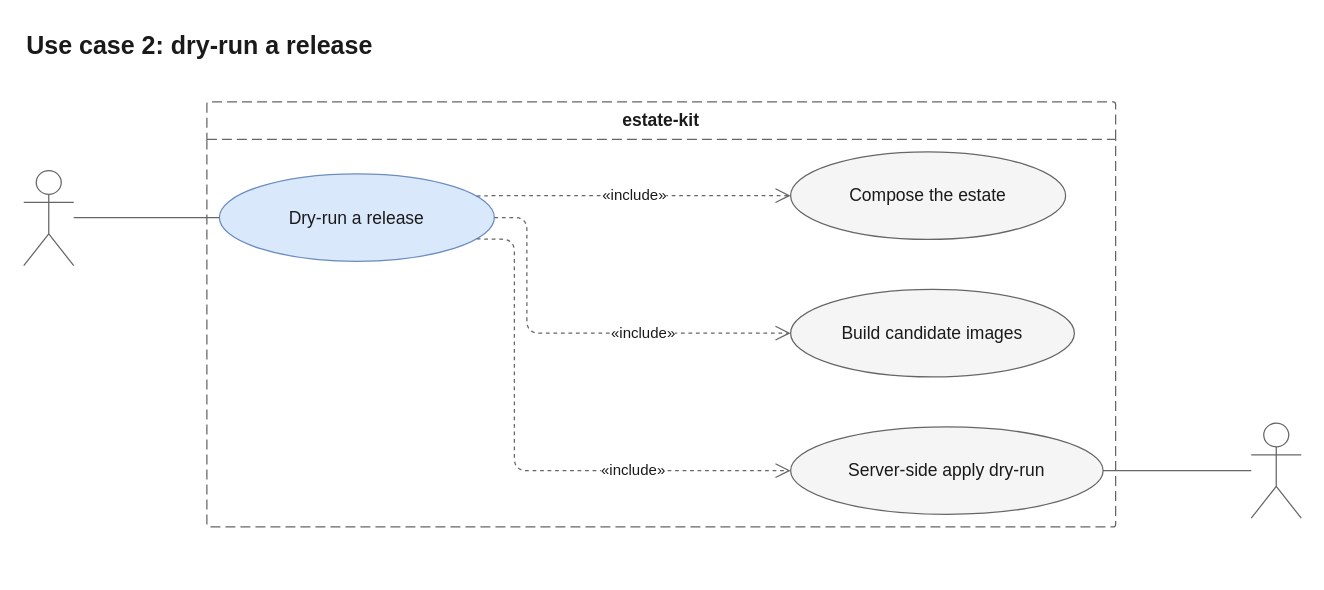
The diagram is 1324 pixels wide and 590 high, and some of its shapes have lost their labels. Each missing label, with the centre of its shape:
API server: the point at 1275,470
Project CI: the point at 48,217
